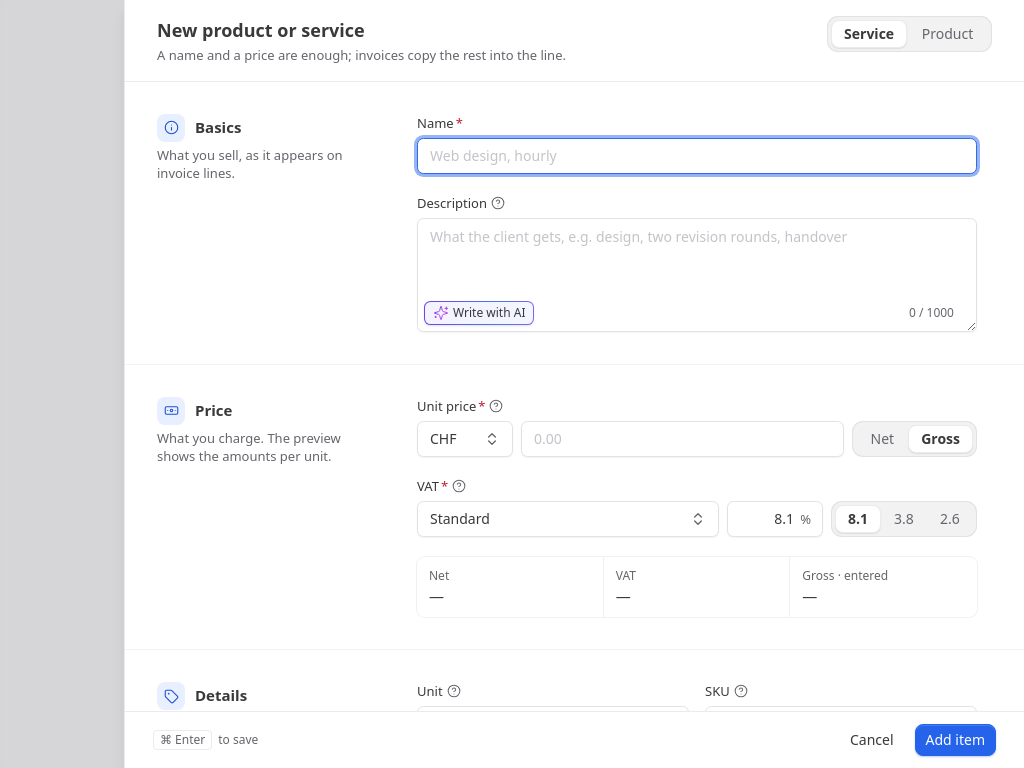
Scenario: checks required fields before sending anything
This screenshot has width=1024, height=768.
Click the button "Add item".
click(955, 740)  # box [914, 724, 996, 756]
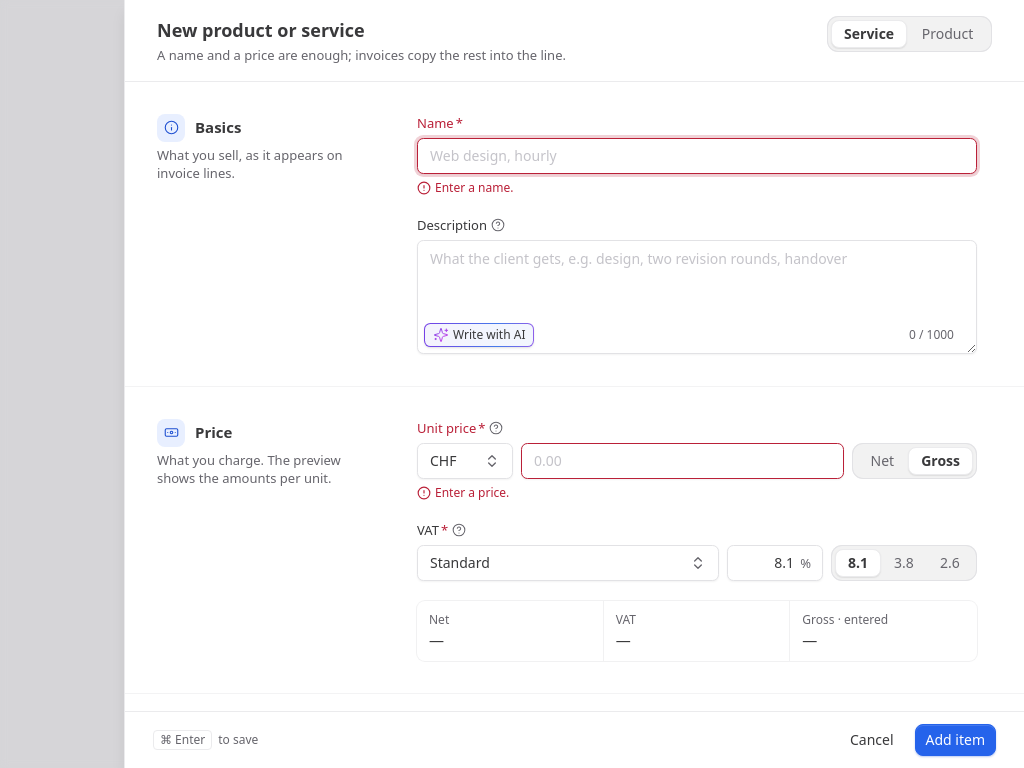
Check: the text "Enter a name." is shown, box [417, 179, 514, 196]
Check: the text "Enter a price." is shown, box [417, 484, 509, 501]
